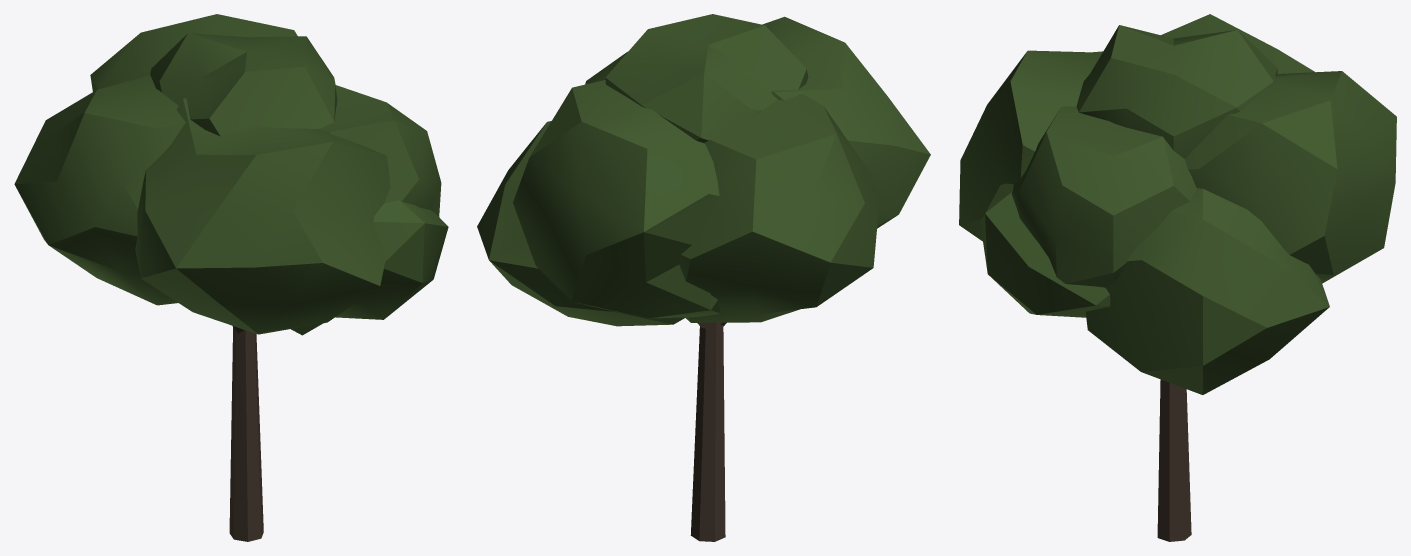
Rendered from broadleaf.glb.
3 views of the same model, side by side, from view 1: azimuth 30°, elevation 25°; view 2: azimuth 150°, elevation 25°; view 3: azimuth 270°, elevation 25° (orthographic).
Parts seen in each view (by area): view 1: Body_LOD0; view 2: Body_LOD0; view 3: Body_LOD0.
Boxes of the visible parts, x1,y1,x2,y2 form: Body_LOD0: (14, 14, 448, 541); Body_LOD0: (477, 14, 930, 541); Body_LOD0: (959, 14, 1396, 541).
Bounding box in the file's own units: 6.31 × 7.97 × 6.38.
